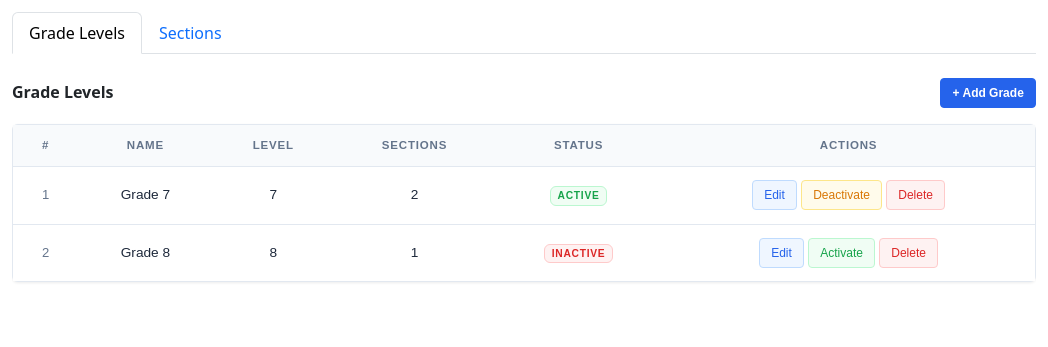
GradeSectionPage › sections › renders all sections when no grade filter is applied
Click the button with class "nav-link" showing "Sections" at (190, 33), box [142, 12, 239, 54]
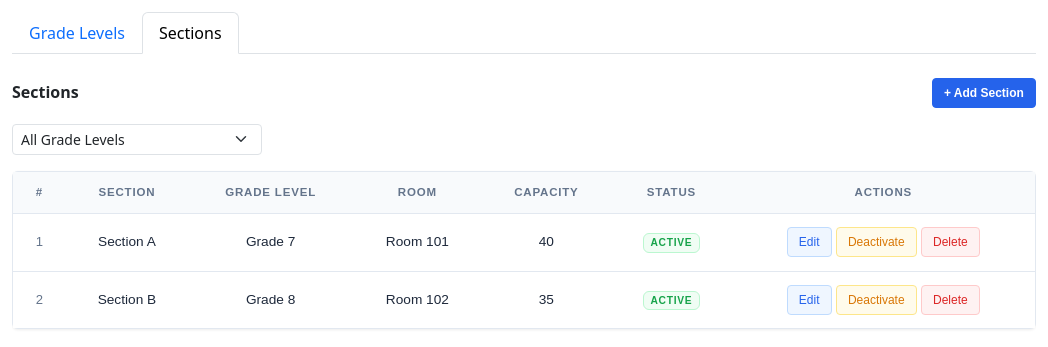
Check: the text "Section A" is shown, box [66, 213, 188, 271]
Check: the text "Section B" is shown, box [66, 271, 188, 328]
